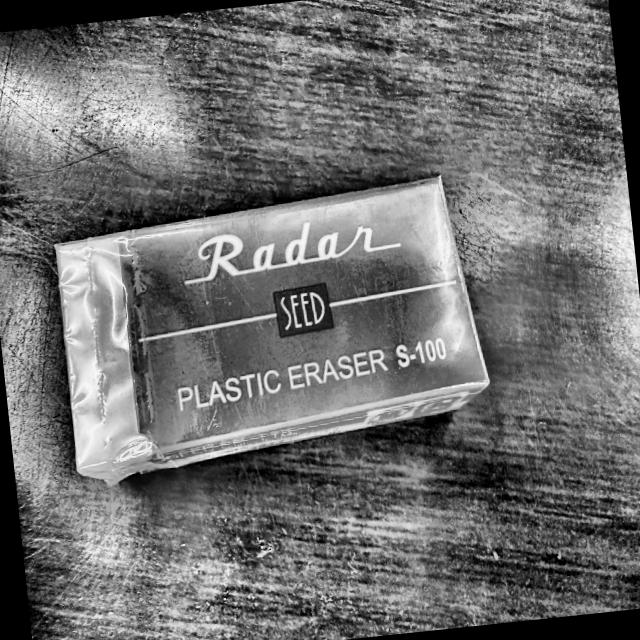eraser: (34, 162, 507, 496)
